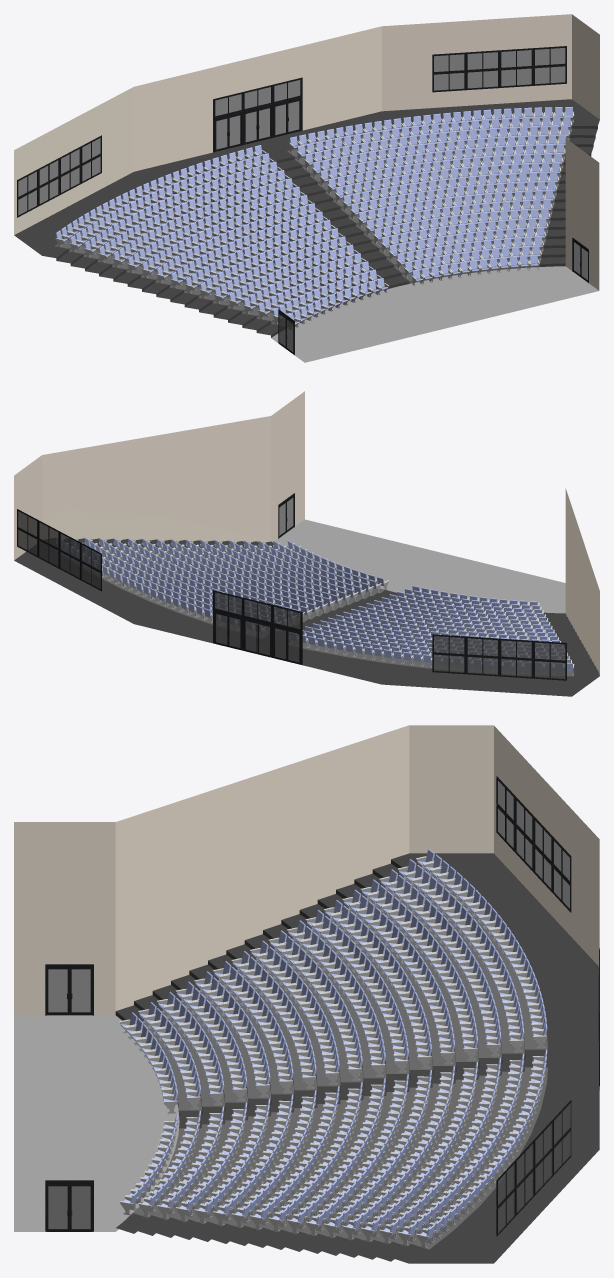
The model's file is chair.glb.
3 renders of one model, top to bottom at view 1: azimuth 30°, elevation 25°; view 2: azimuth 150°, elevation 25°; view 3: azimuth 270°, elevation 25°, orthographic. The views are drawn at different scales.
Visible parts, largest first — view 1: Material3 (×8), Material2 (×5); view 2: Material3 (×8), Material2 (×4); view 3: Material3 (×8), Material2 (×4).
Boxes of the visible parts, x1,y1,x2,y2 form: Material3 (×8): (14, 14, 599, 337); Material2 (×5): (17, 46, 598, 362); Material3 (×8): (14, 391, 599, 696); Material2 (×4): (17, 493, 566, 680); Material3 (×8): (14, 725, 599, 1263); Material2 (×4): (14, 776, 599, 1236).
Size of what is drawn, in the model's own units: 1514 by 333 by 914.
15 materials, 4 textured.
